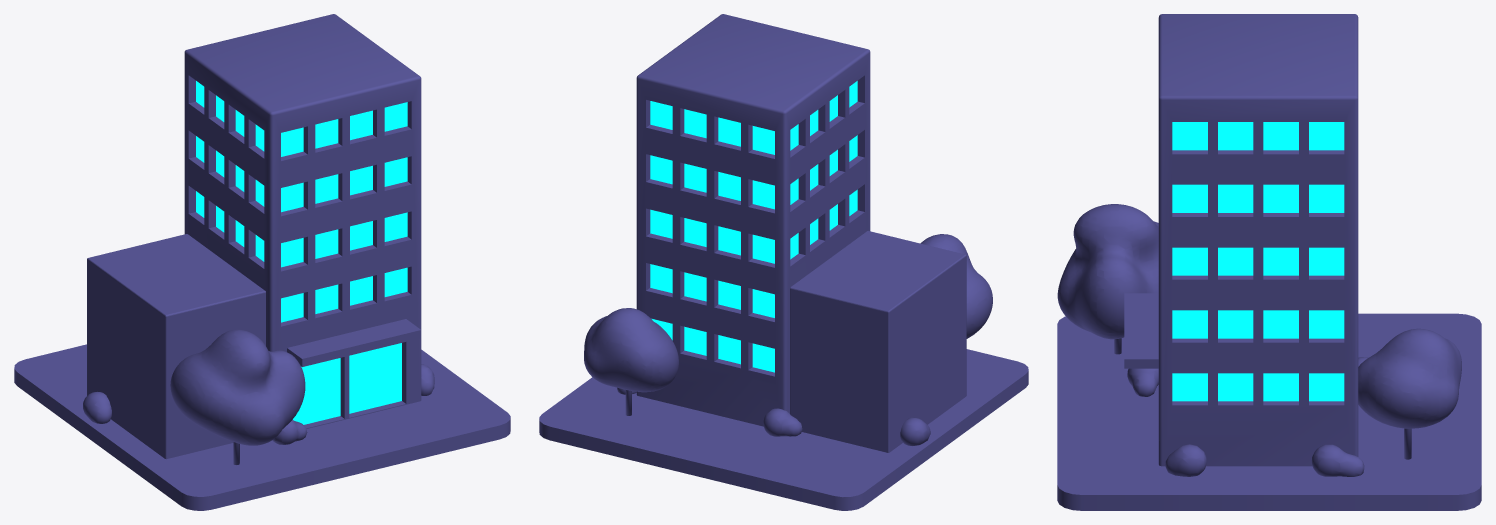
The model's file is building.glb.
The picture shows the model from 3 angles, left to right: view 1: azimuth 30°, elevation 25°; view 2: azimuth 150°, elevation 25°; view 3: azimuth 270°, elevation 25°; orthographic projection. The views are drawn at different scales.
Parts seen in each view (by area): view 1: Cube, Plane.007, Cube.001, Cube.002, Mball.018, Cube.005; view 2: Cube, Cube.001, Plane.007, Cube.002, Mball.018; view 3: Cube, Plane.007, Mball.018, Cube.002, Cube.005.
Boxes of the visible parts, box(x1,y1,x2,y2) form: Cube: box(184, 14, 421, 428); Plane.007: box(14, 344, 510, 510); Cube.001: box(87, 234, 265, 459); Cube.002: box(196, 81, 407, 424); Mball.018: box(83, 329, 434, 445); Cube.005: box(287, 319, 421, 366); Cube: box(636, 14, 870, 426); Cube.001: box(790, 231, 966, 452); Plane.007: box(539, 349, 1028, 510); Cube.002: box(650, 81, 857, 372); Mball.018: box(584, 234, 992, 445); Cube: box(1158, 14, 1358, 466); Plane.007: box(1057, 313, 1481, 510); Mball.018: box(1057, 204, 1461, 476); Cube.002: box(1172, 122, 1344, 401); Cube.005: box(1124, 293, 1158, 368).
Bounding box in the file's own units: 4.76 × 4.71 × 4.7.
